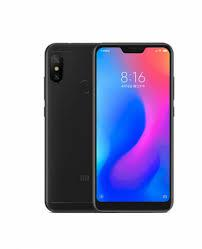Smartphone: (93, 38, 178, 207), (49, 39, 111, 210)
